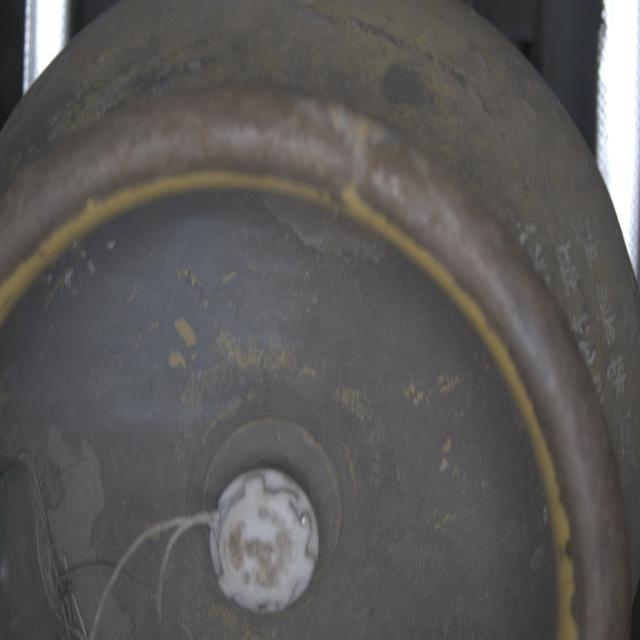Cap: (206, 465, 325, 620)
